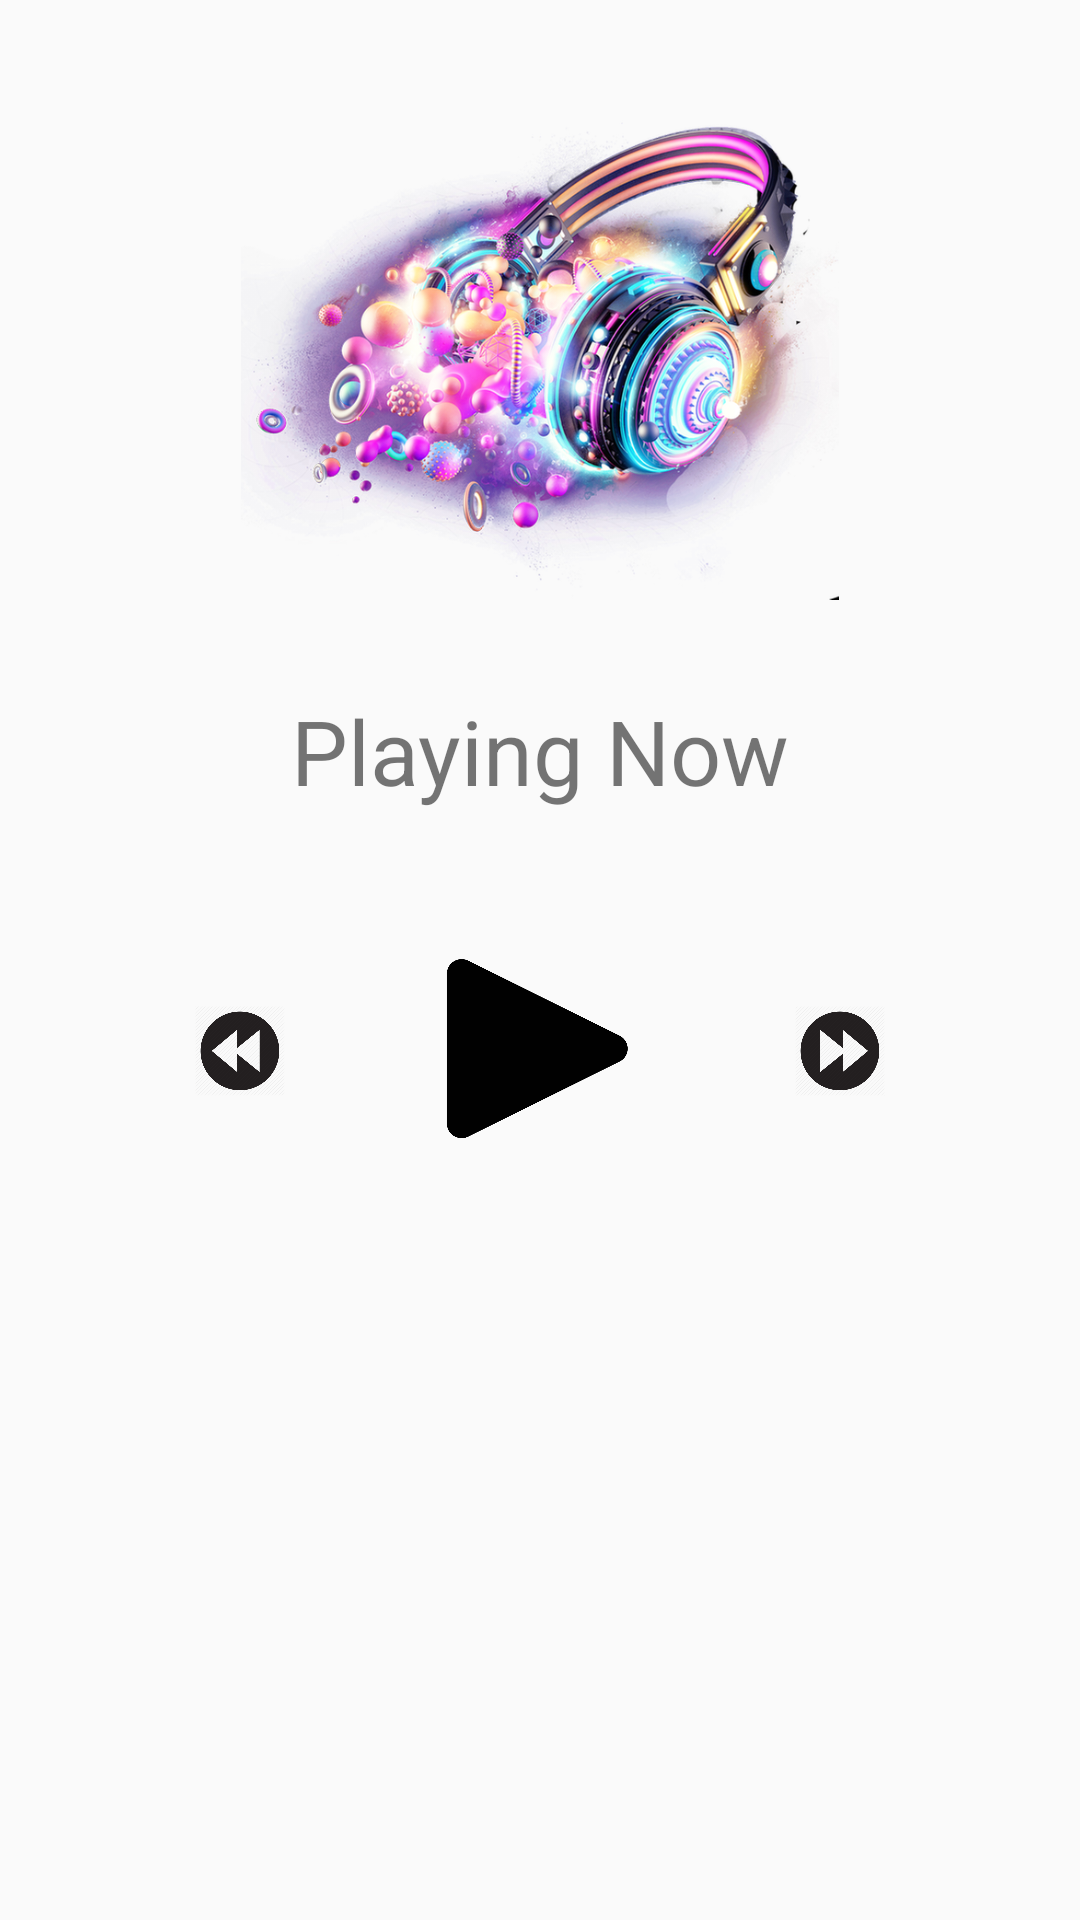

Screen size 1080w x 1920h. Icon name, then its center in pixels as (x=x, y=y):
next: (x=839, y=1050)
prev: (x=239, y=1050)
stop and play: (x=537, y=1048)
